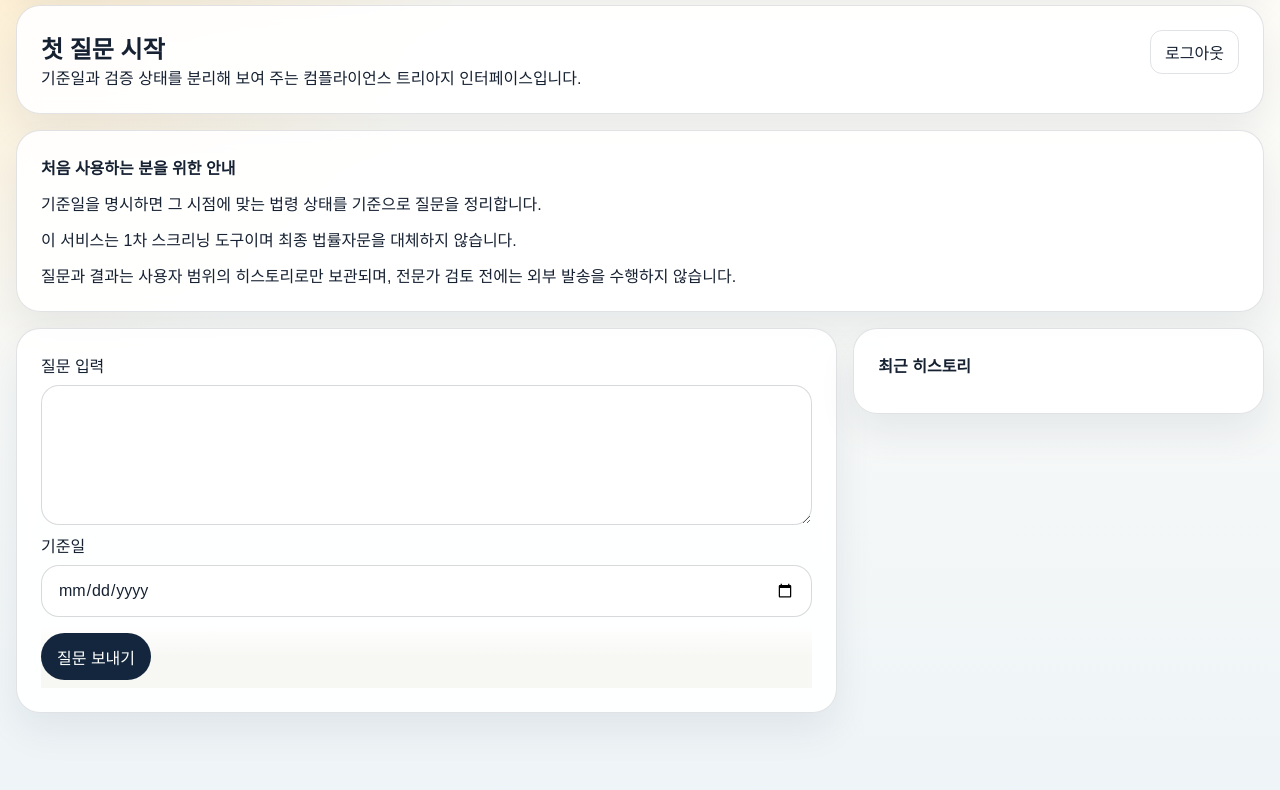
Test: AppShell › handles clarify -> skip -> answer
Type "안전 관련 뭐가 필요해?" into the text box labelled "질문 입력" at coordinates (427, 455), box [41,385,812,525]
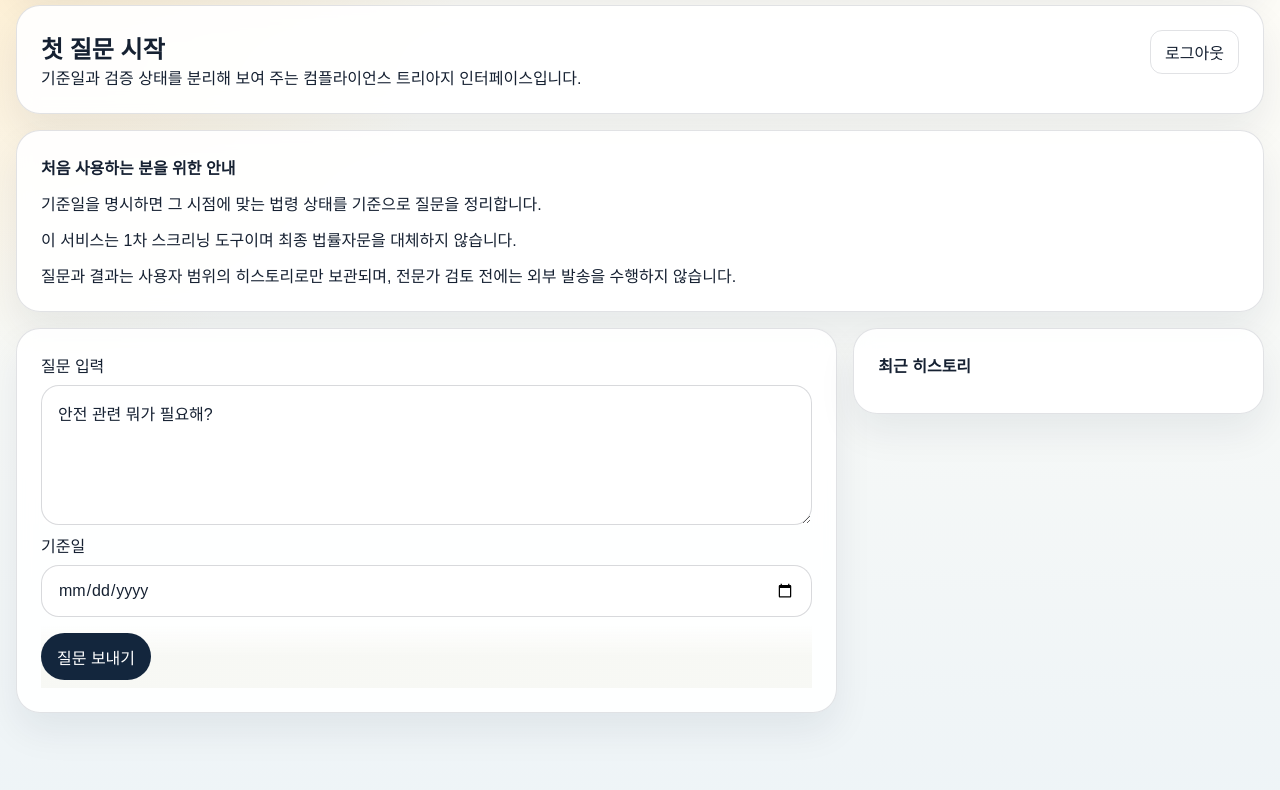
Type "2026-04-18" into the date field labelled "기준일" at coordinates (427, 591), box [41,565,812,617]
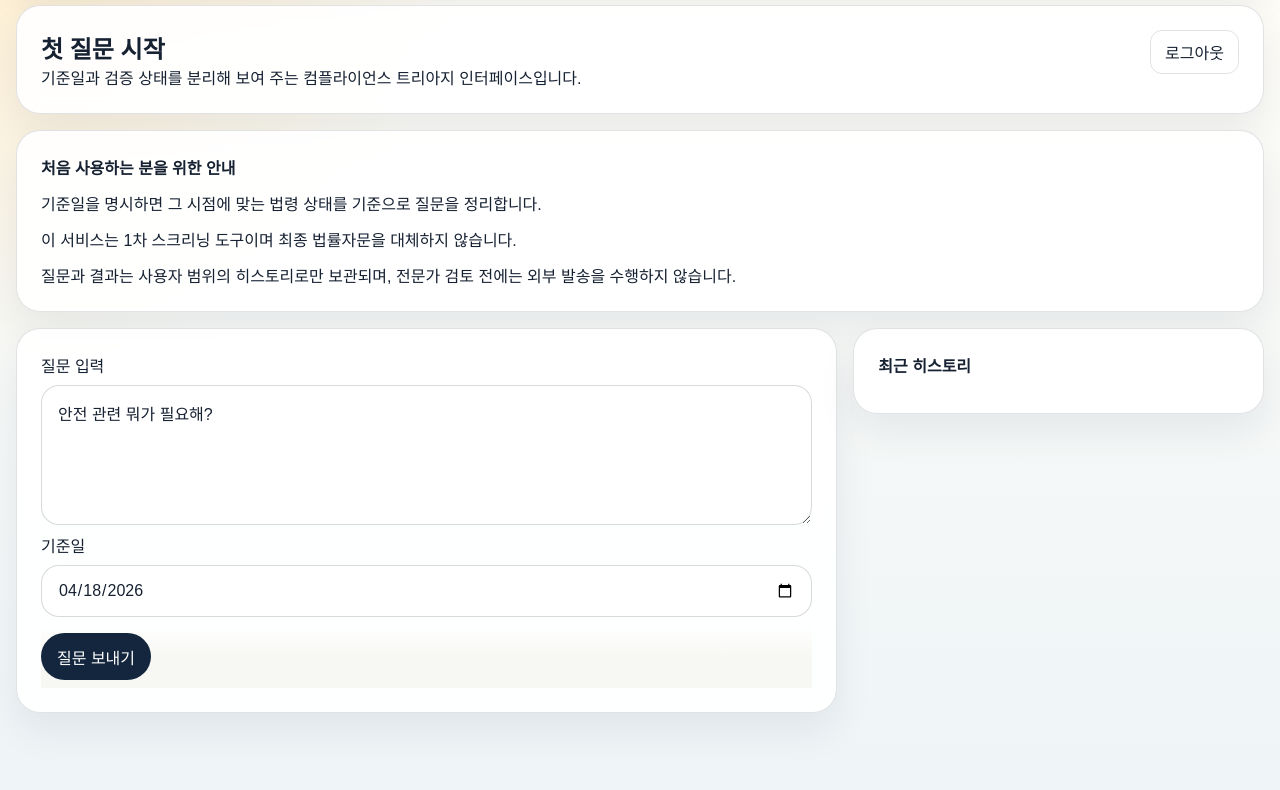
Click the button "질문 보내기" at coordinates (96, 656), box [41,633,151,680]
(page scrolled)
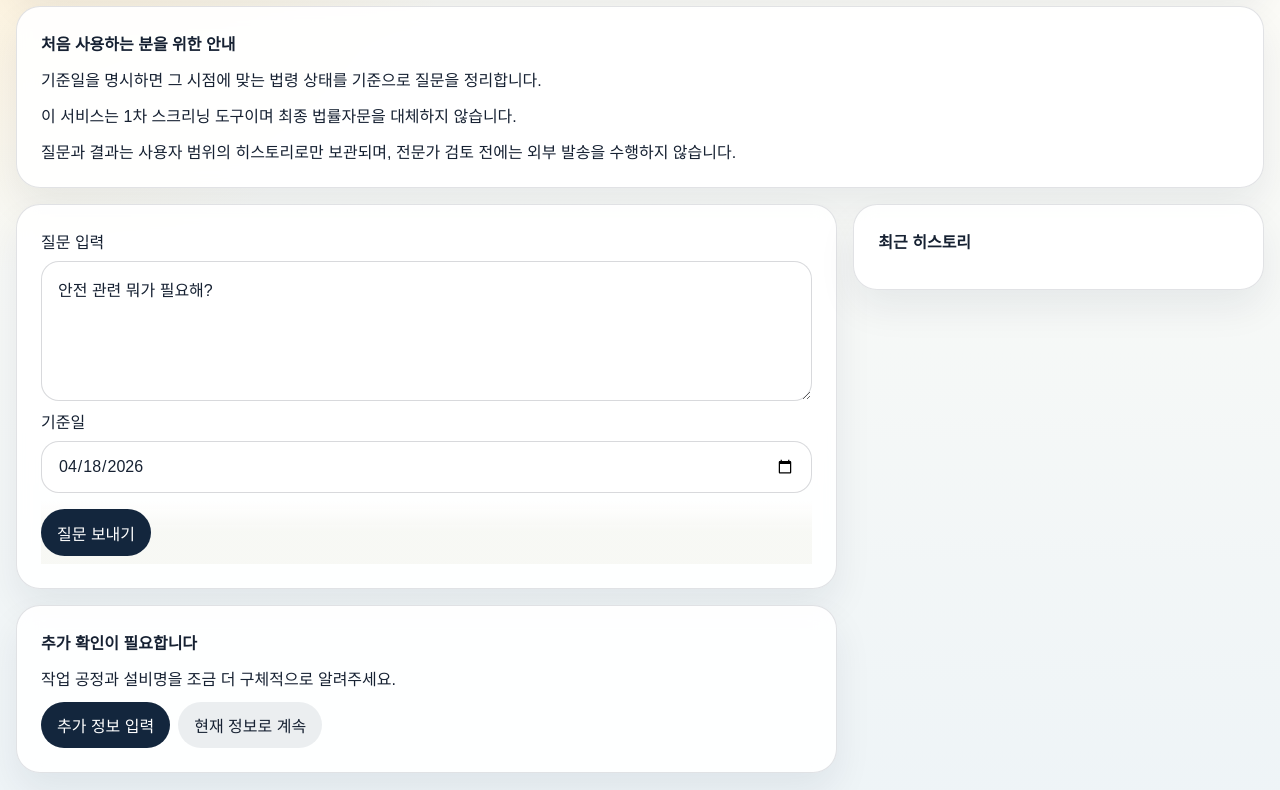
Check: the text "작업 공정과 설비명을 조금 더 구체적으로 알려주세요." is shown, box [41,671,396,688]
Click the button "현재 정보로 계속" at coordinates (250, 725), box [178,702,322,748]
(page scrolled)
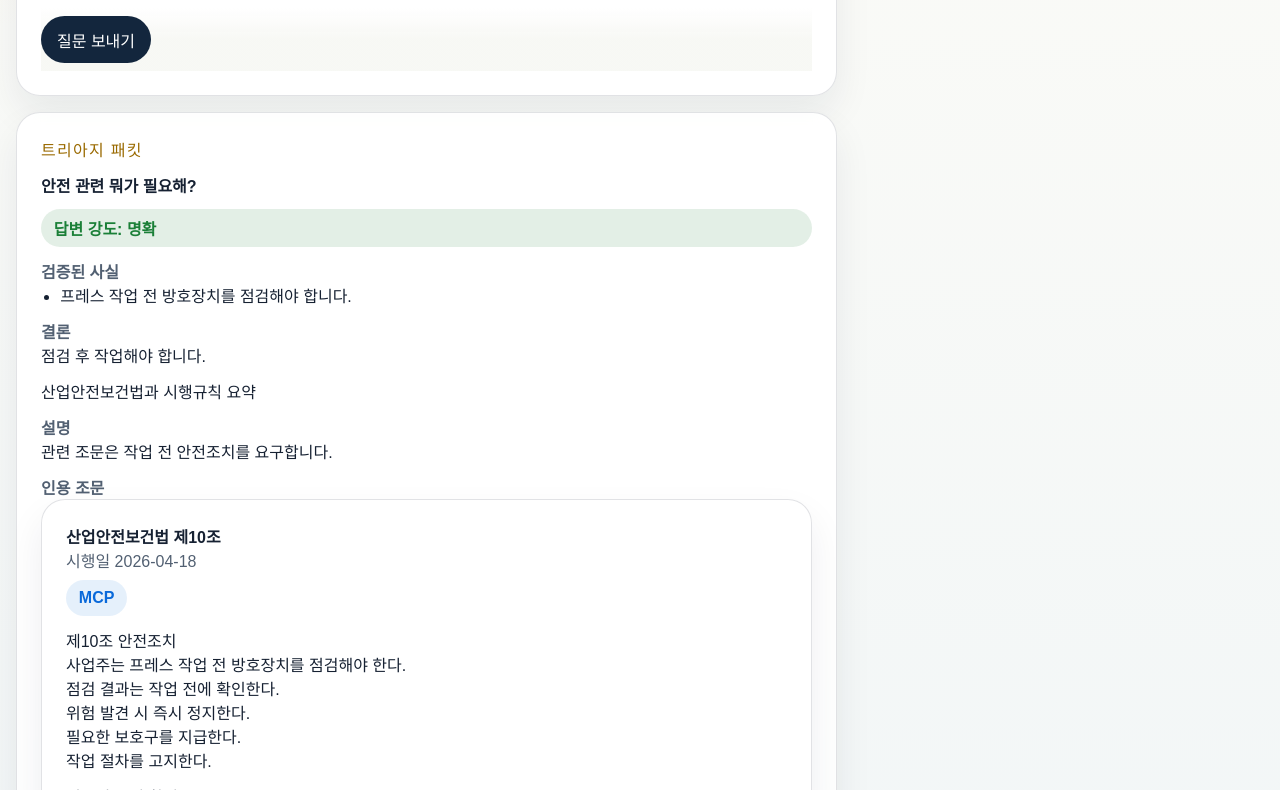
Check: the text "점검 후 작업해야 합니다." is shown, box [41,348,206,365]
